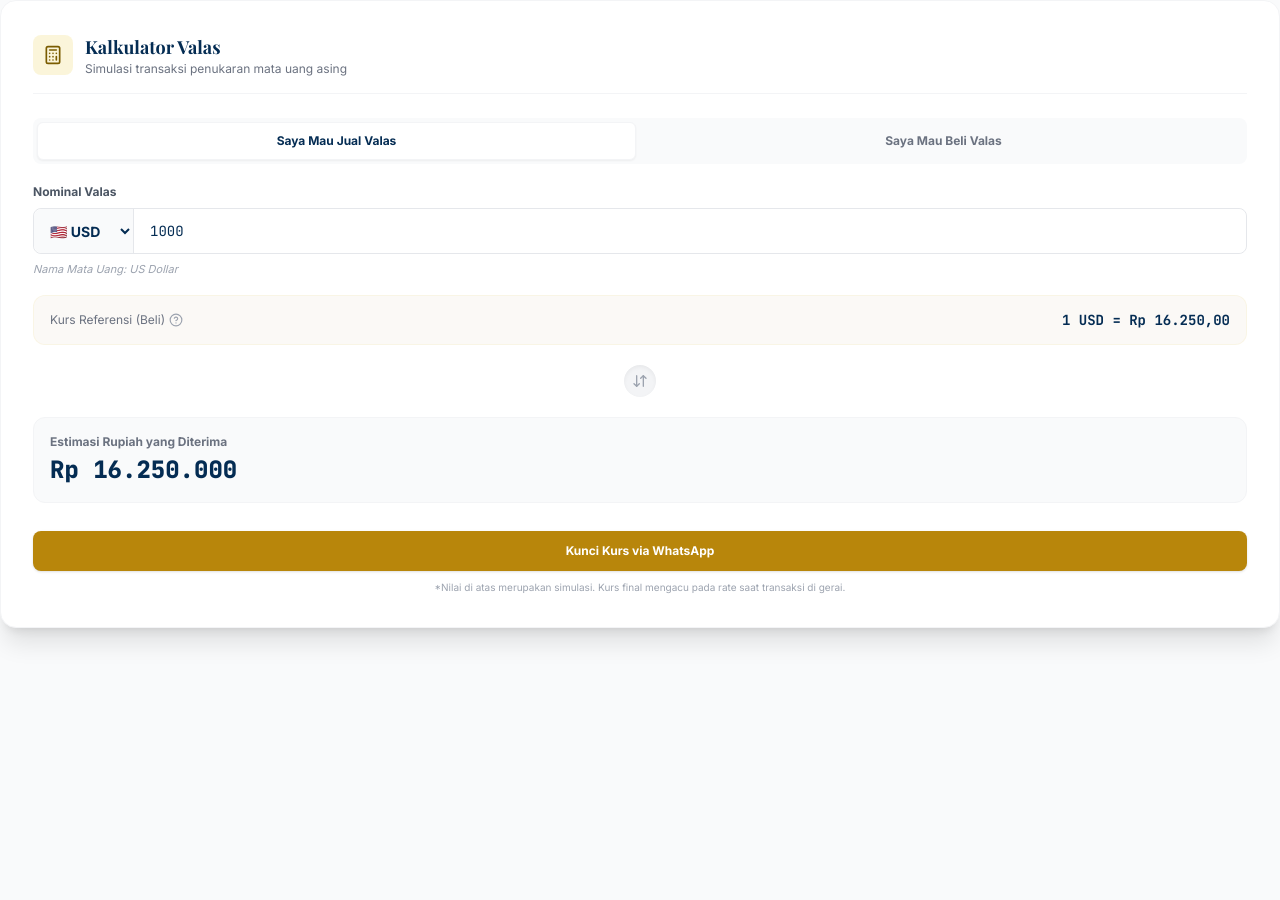
Test: KalkCalc Component › should calculate correctly when transaction type changes to Jual
Click the button "Saya Mau Beli Valas". click: {"x": 944, "y": 141}
box: x1=644 y1=122 x2=1243 y2=160
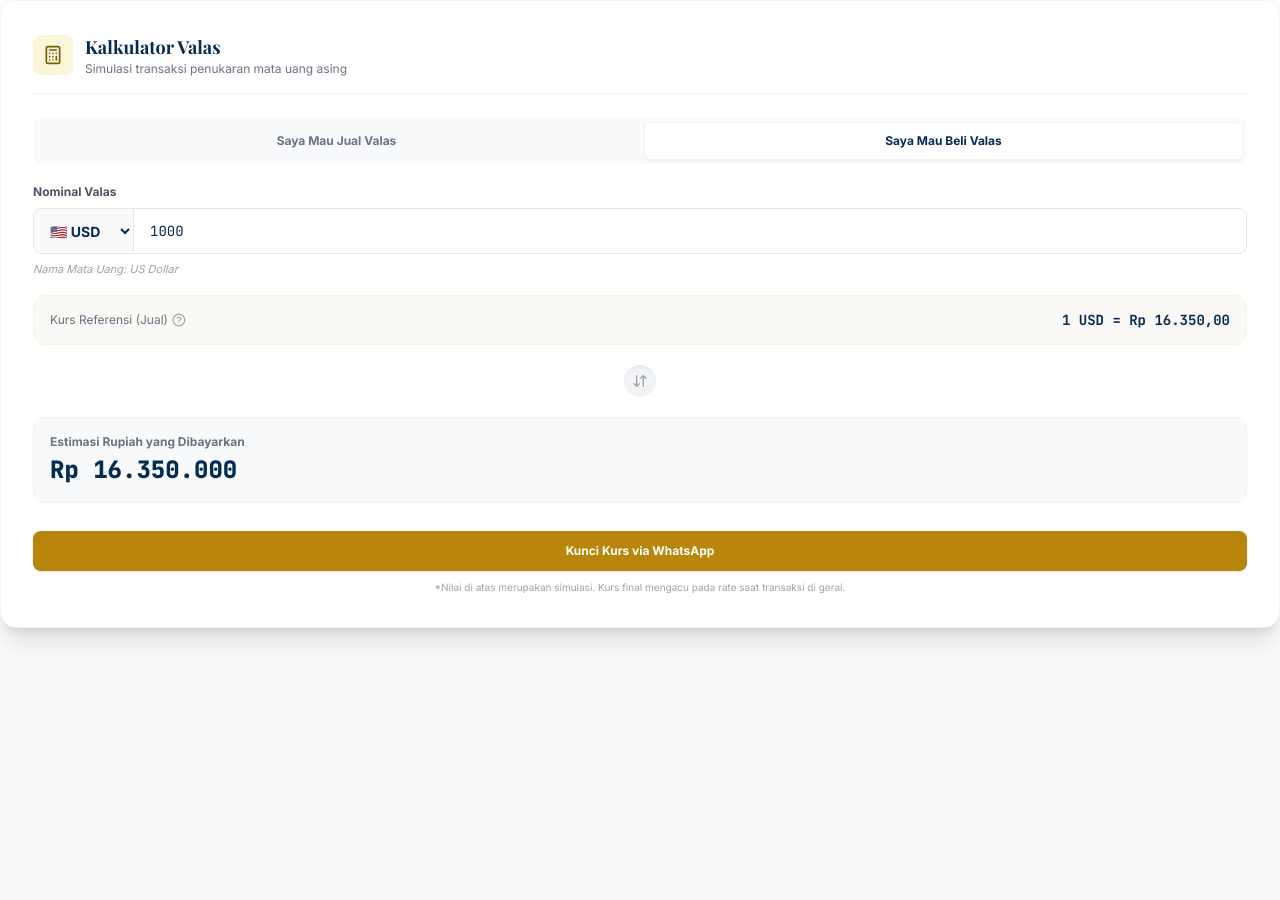
Expected: the text "1 USD = Rp 16.350,00" is shown, x1=1062 y1=310 x2=1230 y2=330
Click the button "Saya Mau Jual Valas". click: {"x": 336, "y": 141}
box: x1=37 y1=122 x2=636 y2=160
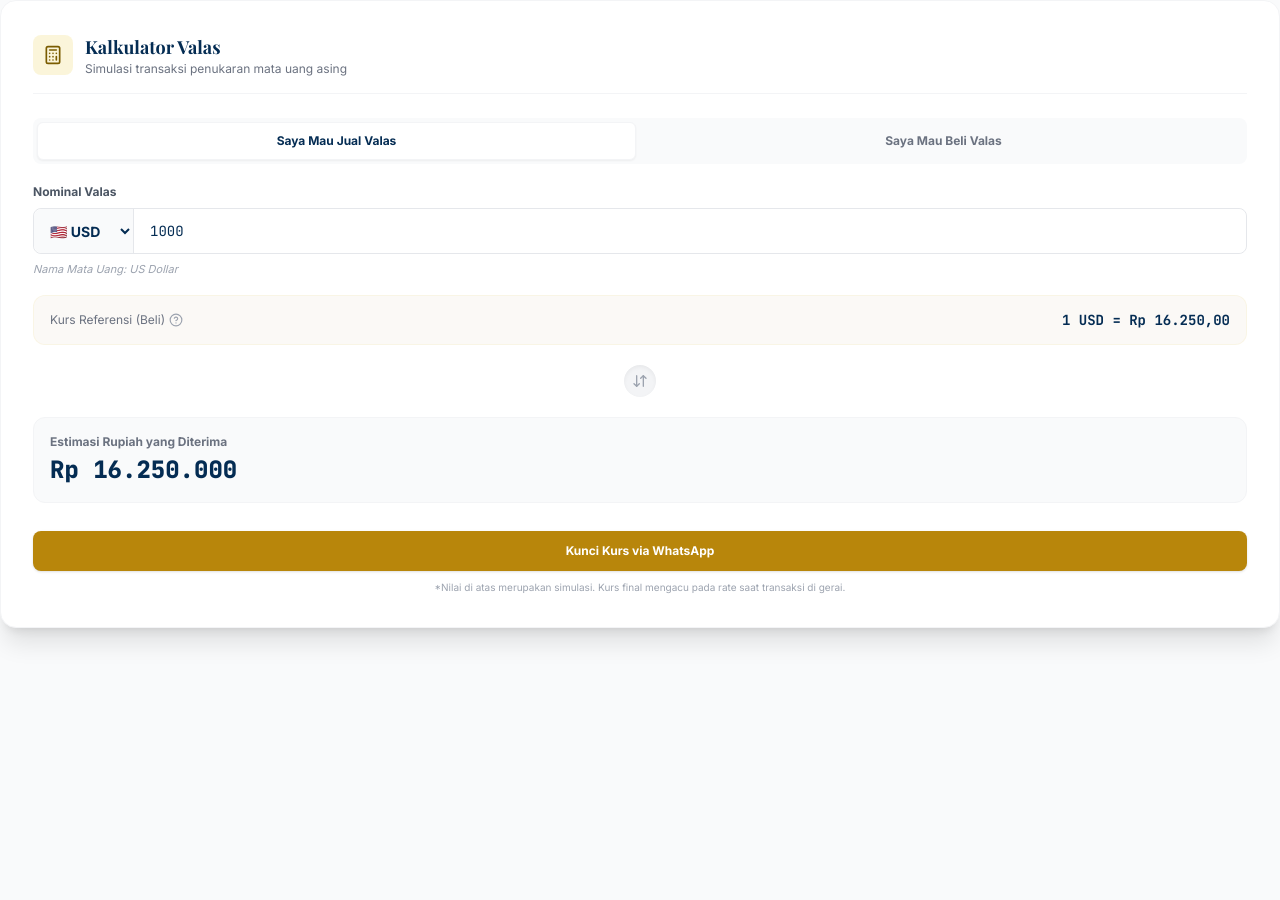
Expected: the text "1 USD = Rp 16.250,00" is shown, x1=1062 y1=310 x2=1230 y2=330
